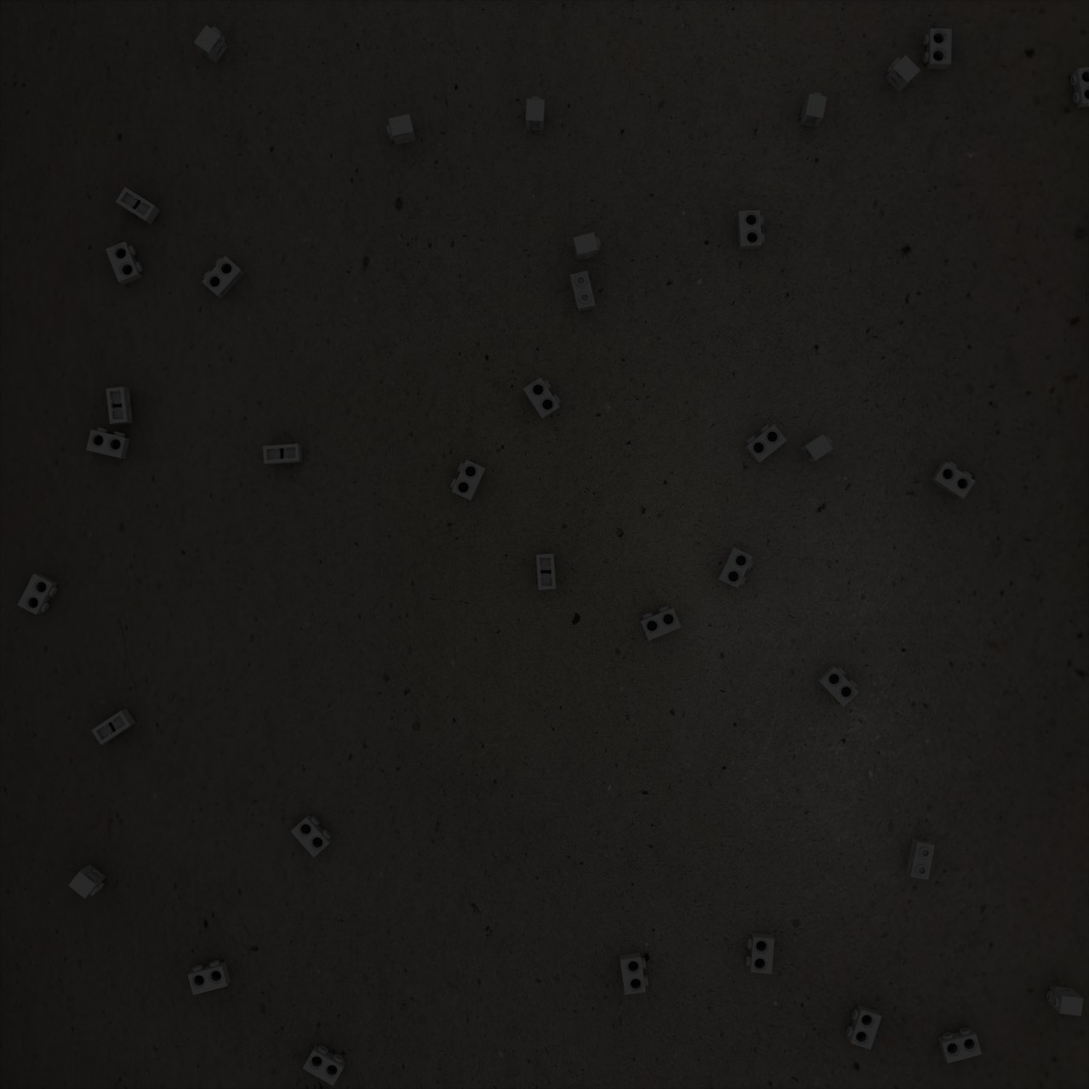lego: (290, 814, 332, 858), (302, 1044, 346, 1086), (202, 256, 244, 299), (816, 665, 859, 707), (930, 461, 976, 499), (17, 573, 58, 615), (744, 424, 787, 464), (115, 187, 160, 225), (105, 241, 143, 285), (91, 708, 136, 745), (846, 1004, 882, 1050), (523, 377, 561, 420), (938, 1028, 982, 1064), (717, 547, 754, 588), (188, 960, 231, 995), (450, 460, 486, 501), (640, 605, 681, 641), (86, 427, 130, 459), (885, 55, 921, 93), (68, 864, 106, 899), (194, 25, 228, 64), (619, 952, 649, 995), (906, 838, 935, 880), (923, 28, 952, 69), (746, 933, 775, 974), (737, 210, 765, 250), (1047, 986, 1084, 1016), (570, 270, 595, 312), (106, 387, 133, 425), (800, 92, 827, 128), (800, 434, 833, 463), (386, 114, 416, 145), (263, 443, 303, 465), (573, 232, 601, 261), (1071, 66, 1089, 108), (536, 553, 556, 590), (526, 96, 545, 131)
